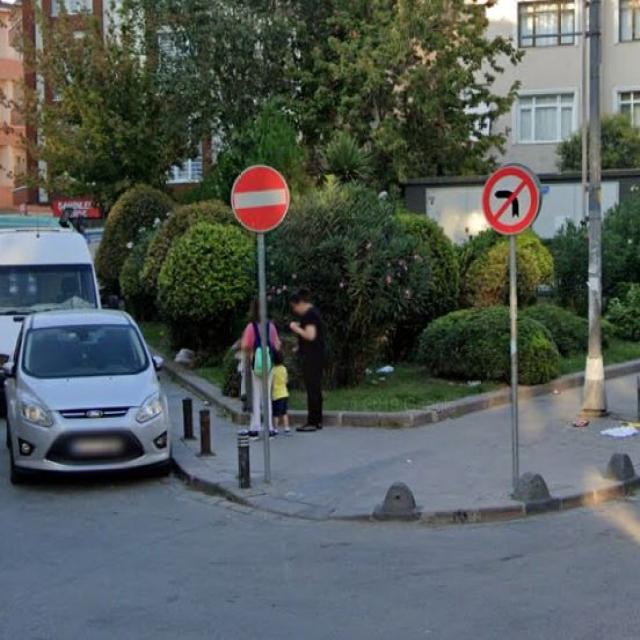girisyok: (230, 164, 288, 233)
soladonulmez: (483, 168, 537, 234)
